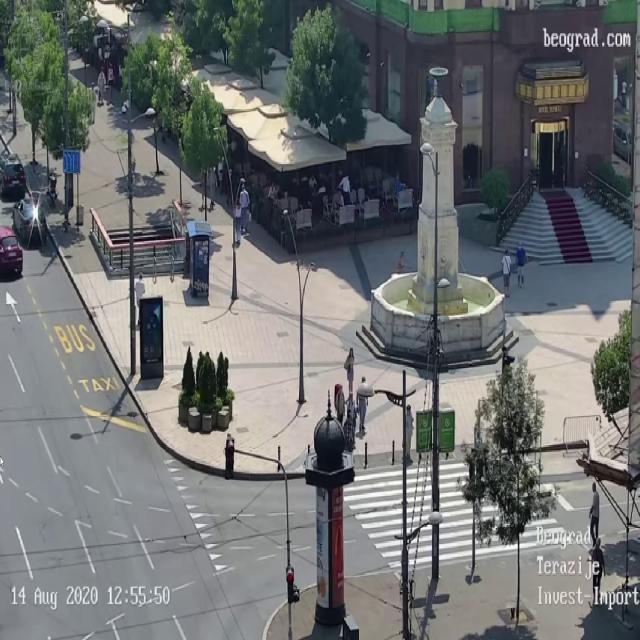car: (11, 199, 48, 239), (0, 145, 25, 196), (0, 226, 23, 276), (612, 121, 632, 164)
